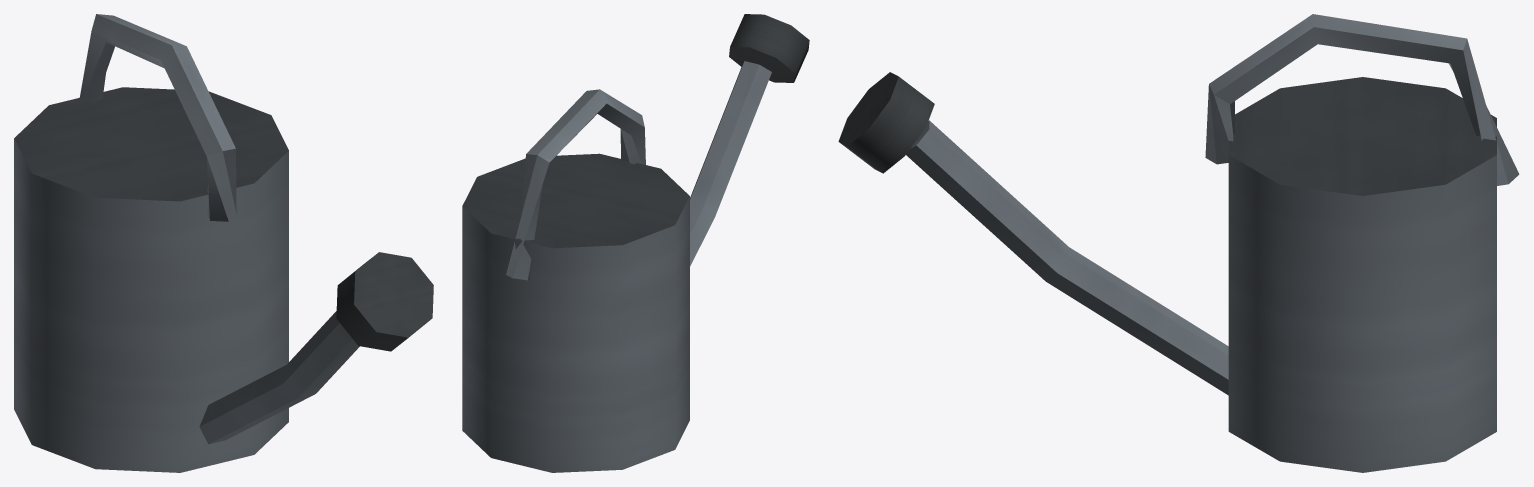
The model's file is watering_can.obj.
3 renders of one model, left to right at view 1: azimuth 30°, elevation 25°; view 2: azimuth 150°, elevation 25°; view 3: azimuth 270°, elevation 25°, orthographic. The views are drawn at different scales.
Parts seen in each view (by area): view 1: watering_can; view 2: watering_can; view 3: watering_can.
Boxes of the visible parts, <box> form: watering_can: <box>14,14,433,472</box>; watering_can: <box>462,14,809,472</box>; watering_can: <box>838,14,1519,472</box>.
Size of the model in its own units: 0.24 by 0.3731 by 0.5796.
1 material, 1 textured.
